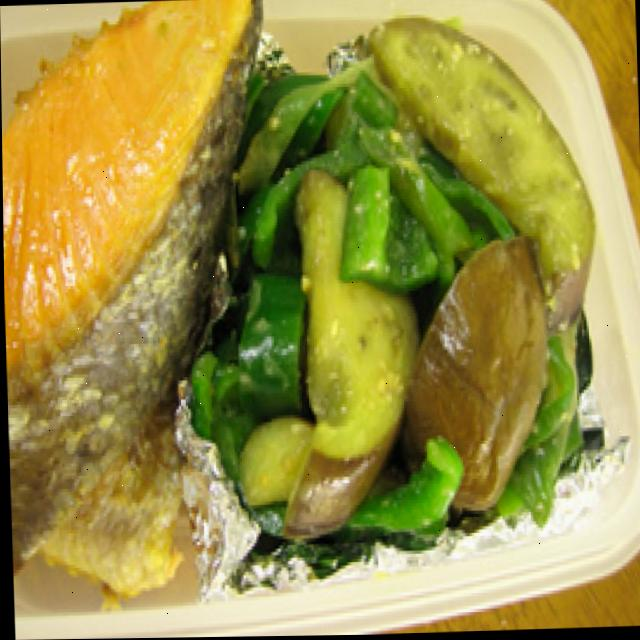熟制海鲜: (0, 0, 284, 566)
